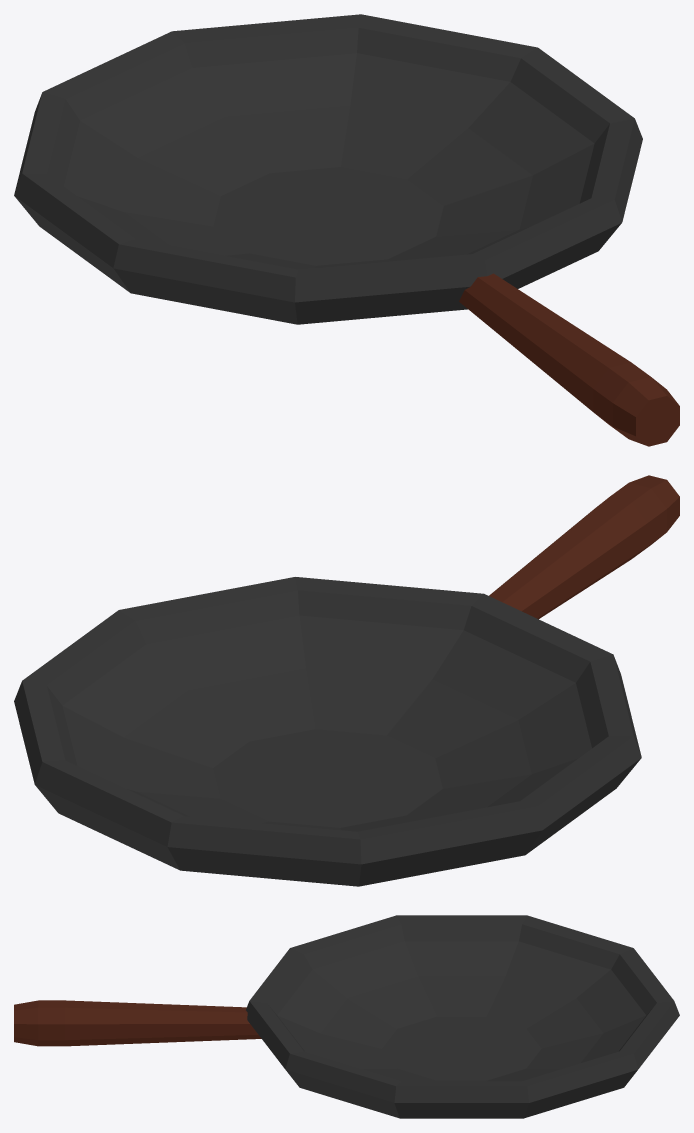
Rendered from FryingPan.glb.
3 renders of one model, top to bottom at view 1: azimuth 30°, elevation 25°; view 2: azimuth 150°, elevation 25°; view 3: azimuth 270°, elevation 25°, orthographic. The views are drawn at different scales.
Visible parts, largest first — view 1: FryingPan; view 2: FryingPan; view 3: FryingPan.
Boxes of the visible parts, bbox=[...] form: FryingPan: bbox=[14, 14, 679, 446]; FryingPan: bbox=[14, 475, 679, 886]; FryingPan: bbox=[14, 915, 679, 1118].
Bounding box in the file's own units: 174 × 25.3 × 279.
